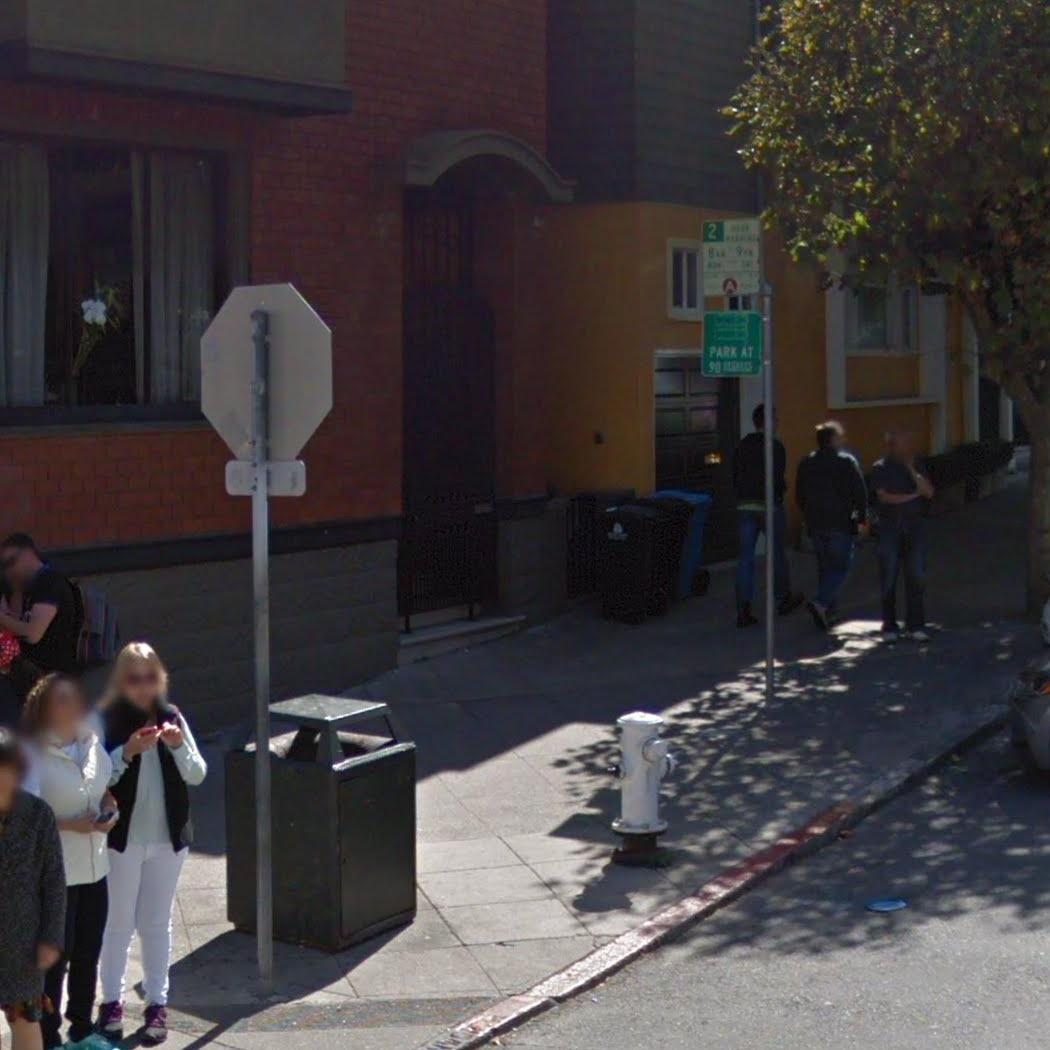2 Hour Parking: (700, 217, 762, 298)
